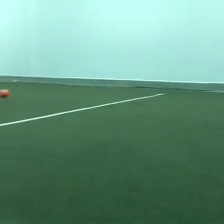ball: (1, 86, 10, 99)
